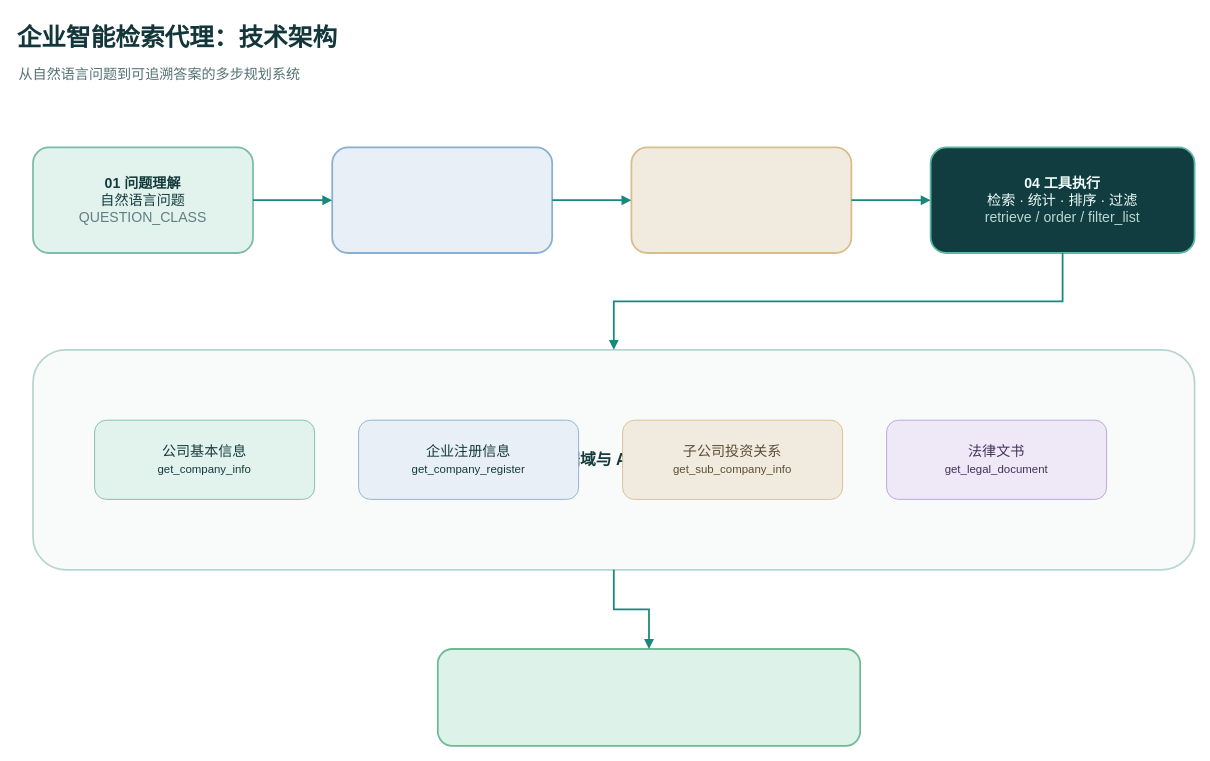
Some shapes in this 1210 by 761 pixel diagram are drawn without their labels. The centre of each missing label's shape, as x and y in pixels:
"02 数据路由 选择目标数据表 TABLE_PROMPT" belongs at pixel 442 199.
"03 计划生成 拆解为前序依赖步骤 execute_plan( )" belongs at pixel 741 199.
"05 答案精炼 结构化事实 → 可读结论 refine_answer( )" belongs at pixel 648 697.
